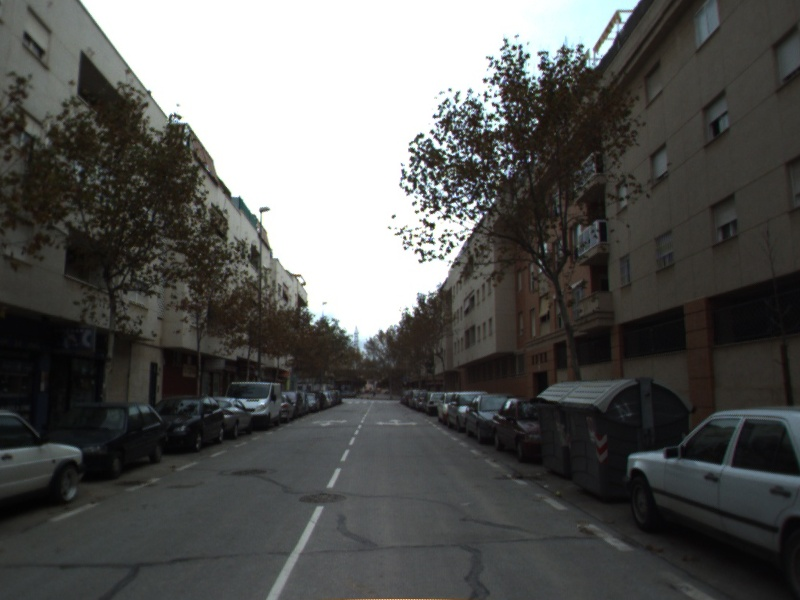STRAIGHT_LEFT_RIGHT: (374, 416, 419, 429)
